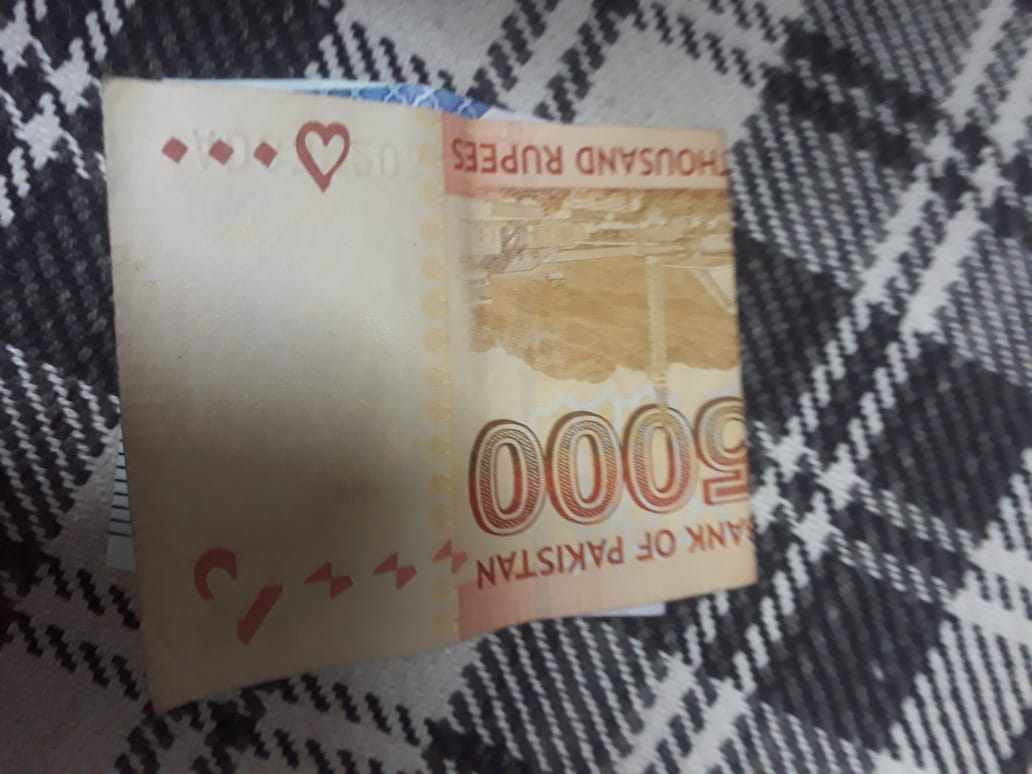5000 rupee: (65, 59, 798, 736)
